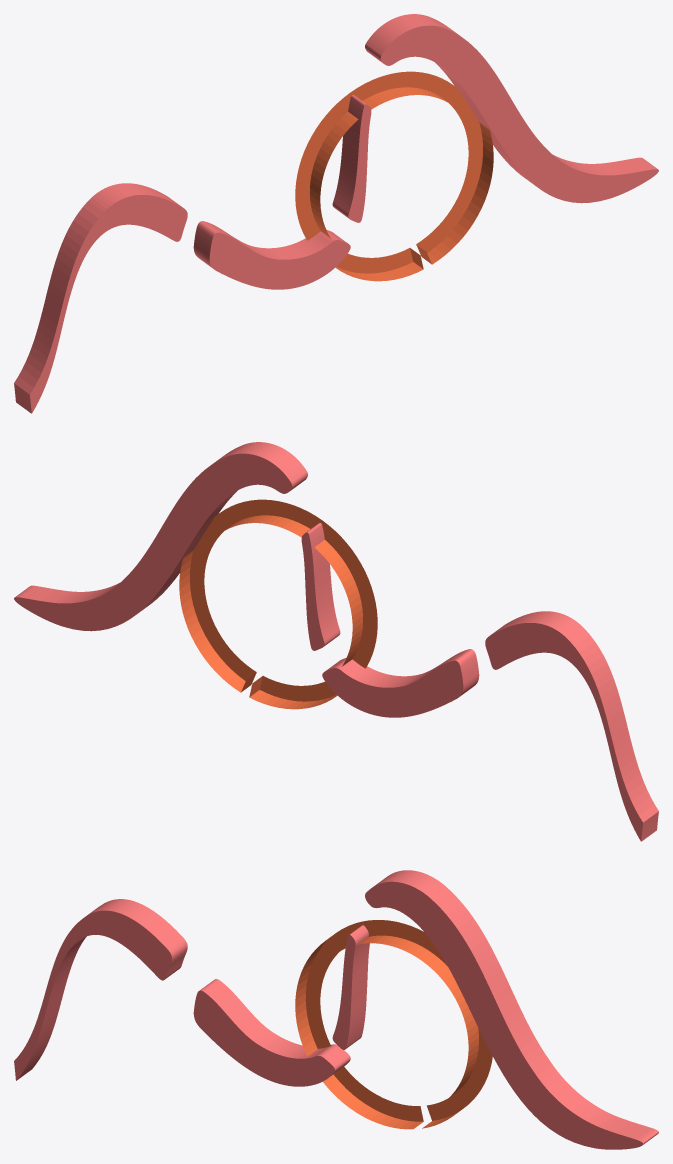
The model's file is add_loop_red.glb.
3 renders of one model, top to bottom at view 1: azimuth 30°, elevation 25°; view 2: azimuth 150°, elevation 25°; view 3: azimuth 330°, elevation 25°, orthographic.
Visible parts, largest first — view 1: shape_03, virtual_loop_red, shape_00, shape_01, shape_02; view 2: shape_03, virtual_loop_red, shape_00, shape_01, shape_02; view 3: shape_03, virtual_loop_red, shape_00, shape_01, shape_02.
Boxes of the visible parts, x1,y1,x2,y2 form: shape_03: (365, 14, 658, 203); virtual_loop_red: (295, 71, 493, 281); shape_00: (14, 183, 187, 413); shape_01: (193, 221, 350, 289); shape_02: (332, 95, 371, 222); shape_03: (14, 442, 307, 631); virtual_loop_red: (179, 499, 377, 709); shape_00: (485, 611, 658, 841); shape_01: (322, 649, 479, 717); shape_02: (301, 523, 340, 650); shape_03: (365, 870, 658, 1149); virtual_loop_red: (295, 920, 492, 1129); shape_00: (14, 899, 187, 1080); shape_01: (193, 979, 350, 1086); shape_02: (332, 925, 369, 1049).
Bounding box in the file's own units: 6.9 × 3.06 × 0.3.
